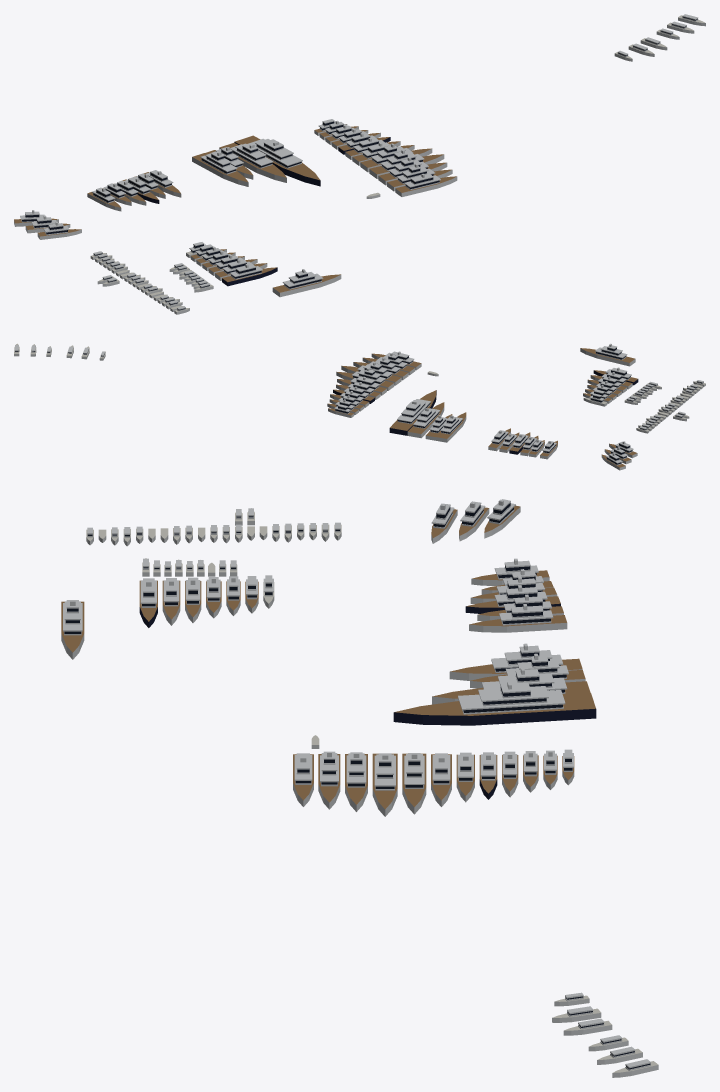
File: harbour.glb
3 views of the same model, one above another, from view 1: azimuth 30°, elevation 25°; view 2: azimuth 150°, elevation 25°; view 3: azimuth 270°, elevation 25° (orthographic). The views are drawn at different scales.
Visible parts, largest first — view 1: chunk_0_0; view 2: chunk_0_0; view 3: chunk_0_0.
Part boxes in pixels (x1=…): chunk_0_0: x1=14, y1=14, x2=705, y2=314; chunk_0_0: x1=14, y1=343, x2=705, y2=470; chunk_0_0: x1=61, y1=499, x2=658, y2=1077.
Size of the model in its own units: 467 by 12.25 by 207.
